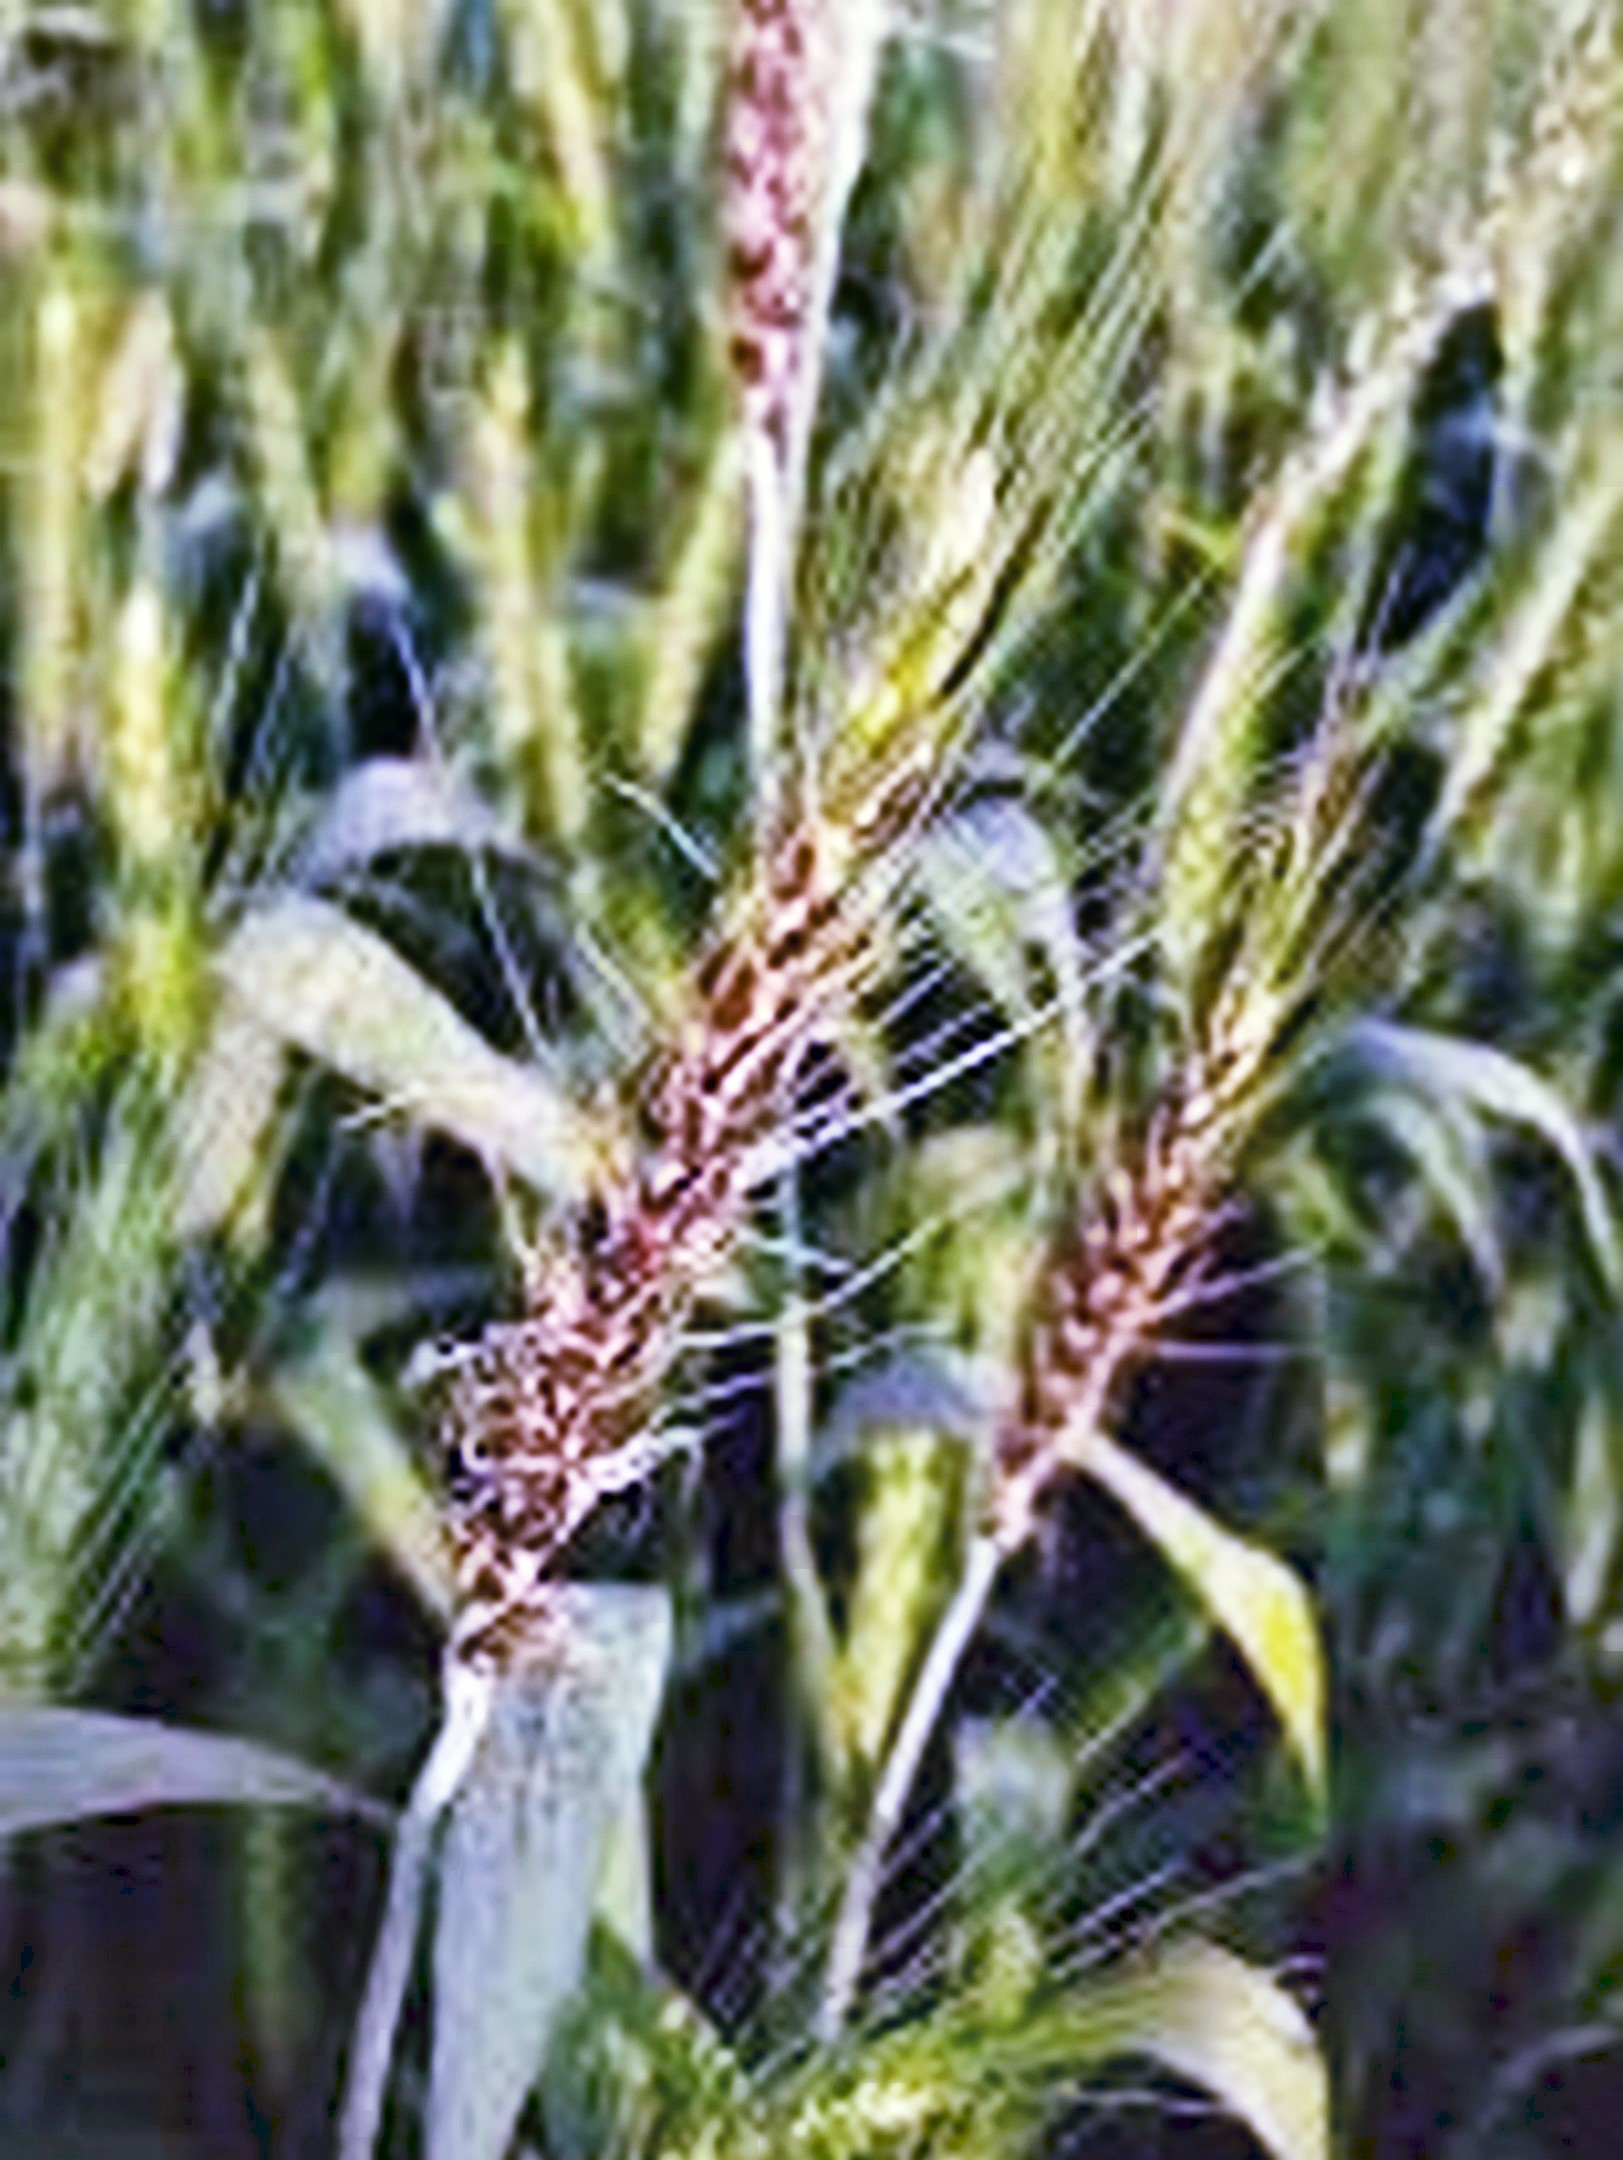Wheat Loose Smut: (448, 796, 888, 1614)
